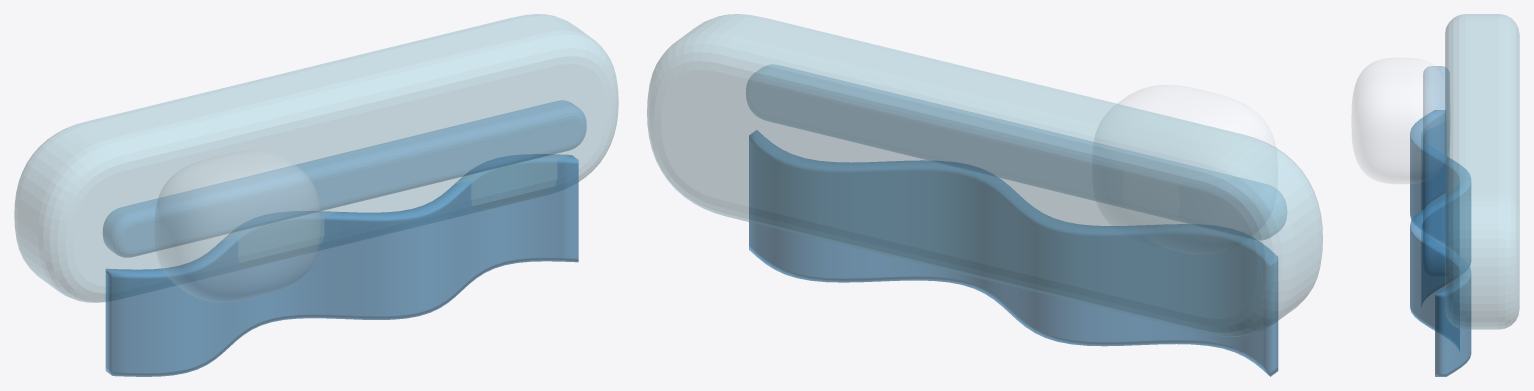
3 views of the same model, side by side, from view 1: azimuth 30°, elevation 25°; view 2: azimuth 150°, elevation 25°; view 3: azimuth 270°, elevation 25° (orthographic). The views are drawn at different scales.
Parts seen in each view (by area): view 1: cradle, flexible-ribbon, channel, thumb-0; view 2: cradle, flexible-ribbon, channel, thumb-0; view 3: cradle, flexible-ribbon, thumb-0, channel.
Part boxes in pixels (x1=…): cradle: x1=14, y1=14, x2=618, y2=302; flexible-ribbon: x1=105, y1=154, x2=578, y2=376; channel: x1=103, y1=100, x2=586, y2=257; thumb-0: x1=155, y1=150, x2=320, y2=301; cradle: x1=647, y1=14, x2=1322, y2=336; flexible-ribbon: x1=749, y1=130, x2=1278, y2=376; channel: x1=746, y1=64, x2=1286, y2=240; thumb-0: x1=1118, y1=85, x2=1275, y2=147; cradle: x1=1445, y1=14, x2=1519, y2=329; flexible-ribbon: x1=1410, y1=110, x2=1471, y2=376; thumb-0: x1=1351, y1=58, x2=1444, y2=183; channel: x1=1423, y1=66, x2=1449, y2=277.
Size of the model in its own units: 2.6 by 0.945 by 0.81.
